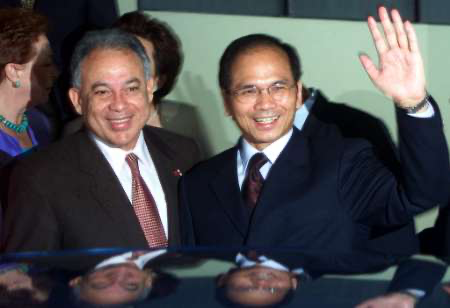Face: (80, 61, 154, 148), (229, 64, 299, 139)
